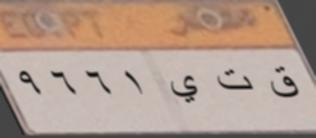1: (120, 68, 144, 100)
6: (47, 70, 78, 98), (85, 68, 112, 99)
9: (16, 68, 43, 100)
qaaf: (266, 63, 300, 103)
taa: (213, 67, 255, 96)
yaa: (168, 71, 200, 108)
